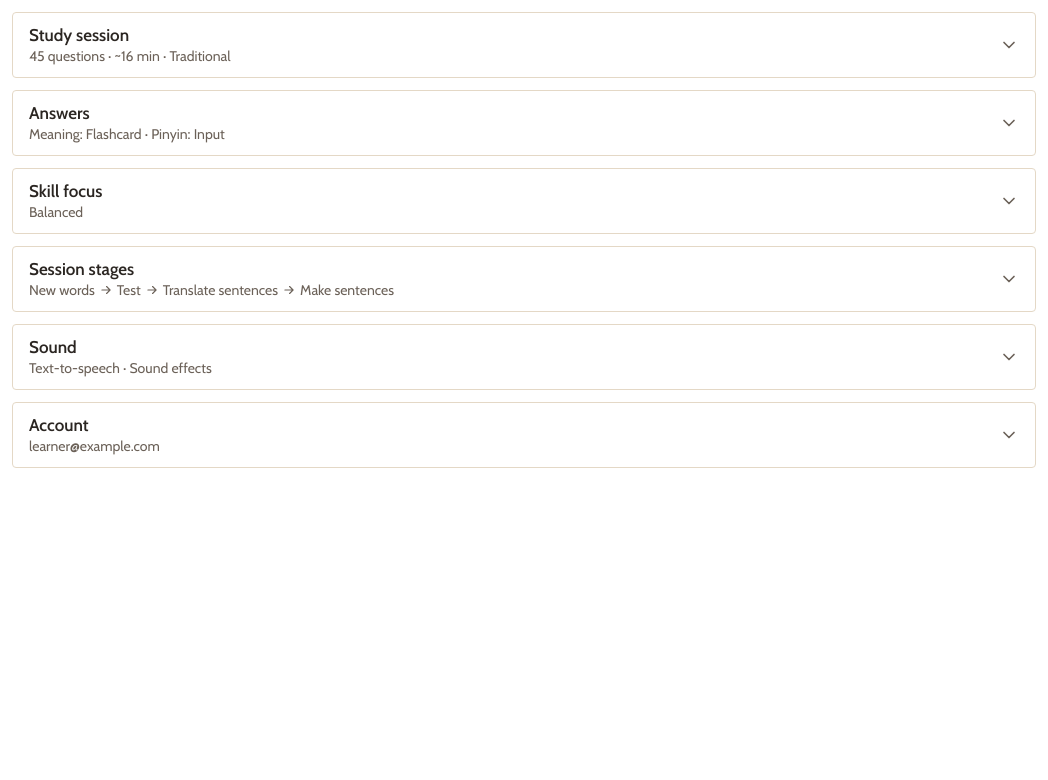
Test: Settings — Session › steps the questions per session by 5, from 5 to 50
Click the button "Study session 45 questions · ~16 min · Traditional".
click(79, 35)  # box [13,13,1035,77]
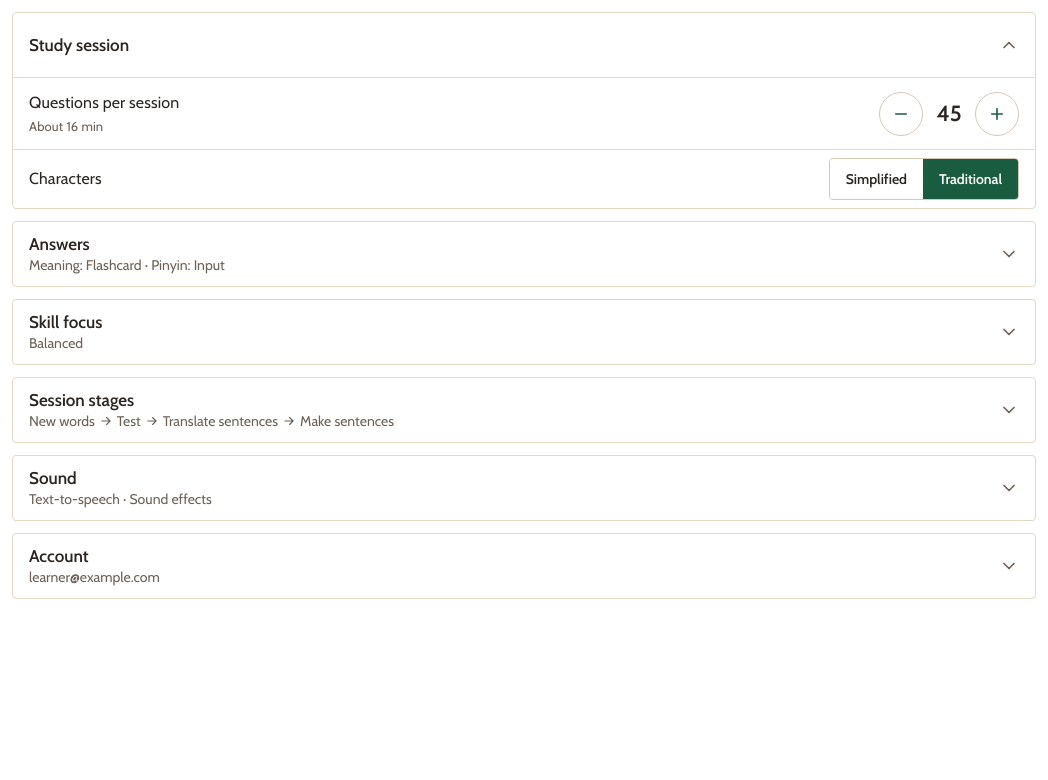
Click the button named "More questions".
click(997, 114)  # box [975,92,1019,136]
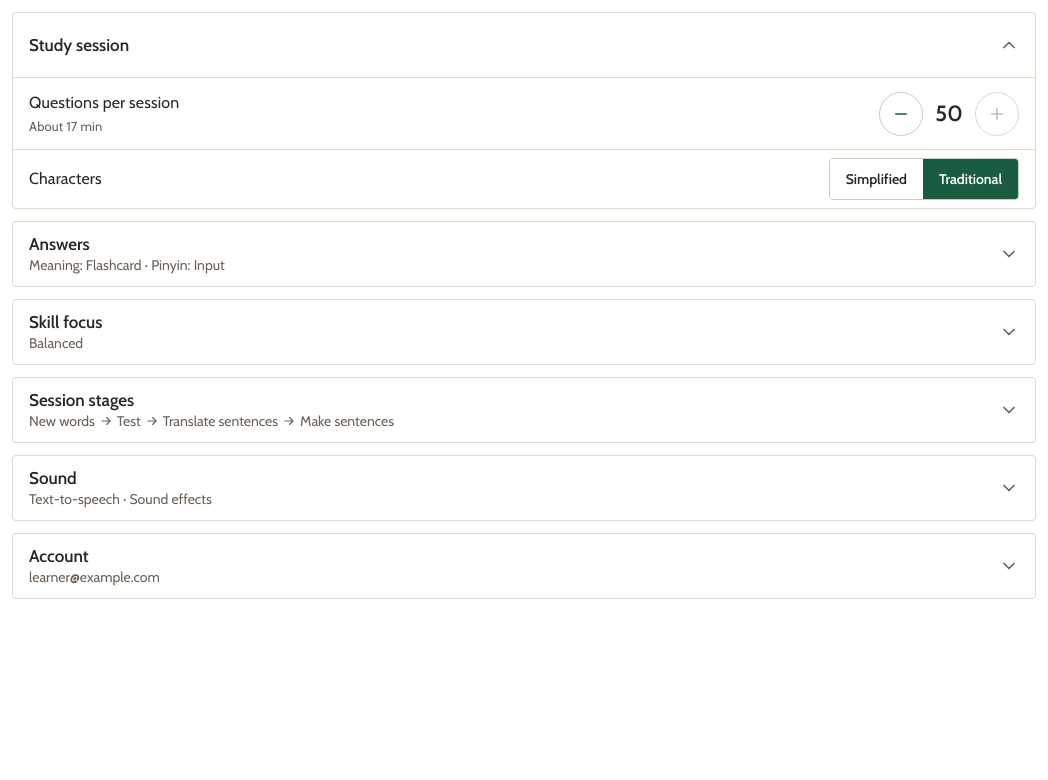
expect the text "50" is shown: met, box [935,100,963,127]
expect the button named "More questions" is disabled: met, box [975,92,1019,136]
